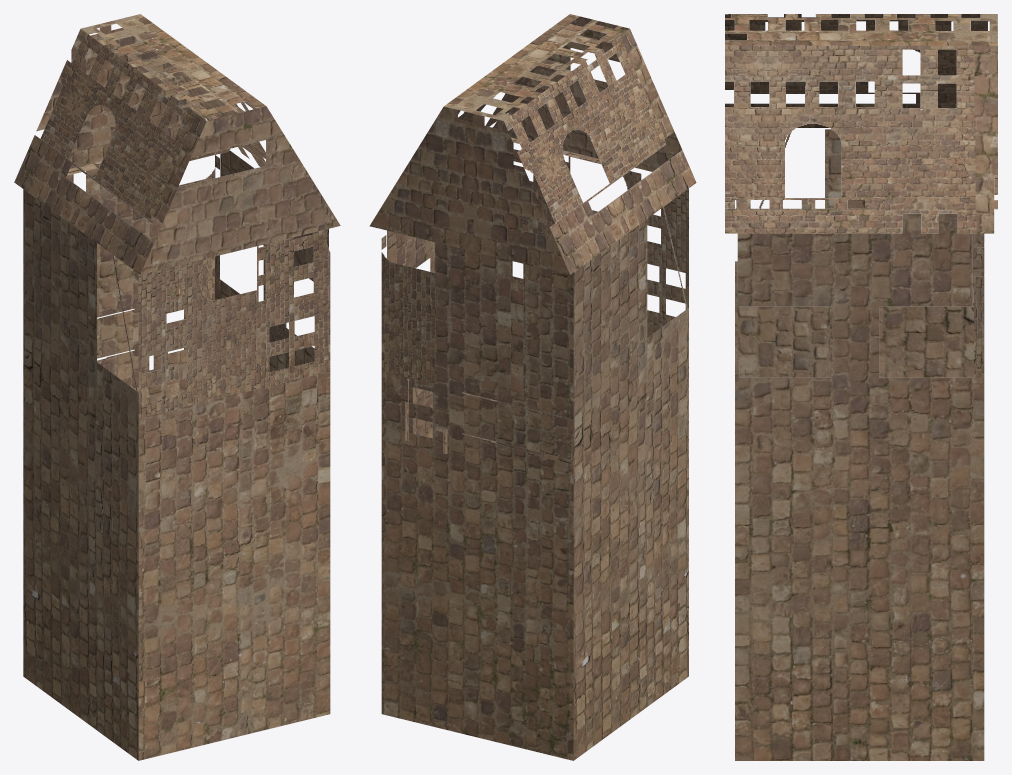
File: TowerBetweenWalls.fbx
The picture shows the model from 3 angles, left to right: view 1: azimuth 30°, elevation 25°; view 2: azimuth 150°, elevation 25°; view 3: azimuth 270°, elevation 25°; orthographic projection. The views are drawn at different scales.
Parts seen in each view (by area): view 1: TowerBetweenWalls; view 2: TowerBetweenWalls; view 3: TowerBetweenWalls.
Part boxes in pixels (bbox=[...]): TowerBetweenWalls: bbox=[14, 14, 340, 760]; TowerBetweenWalls: bbox=[369, 14, 696, 760]; TowerBetweenWalls: bbox=[725, 14, 997, 760].
Bounding box in the file's own units: 500 × 1496 × 545.
